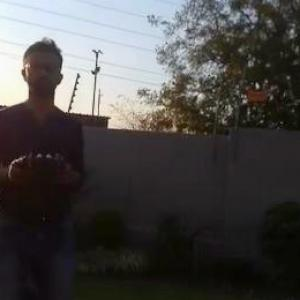follow: (0, 30, 91, 299)
